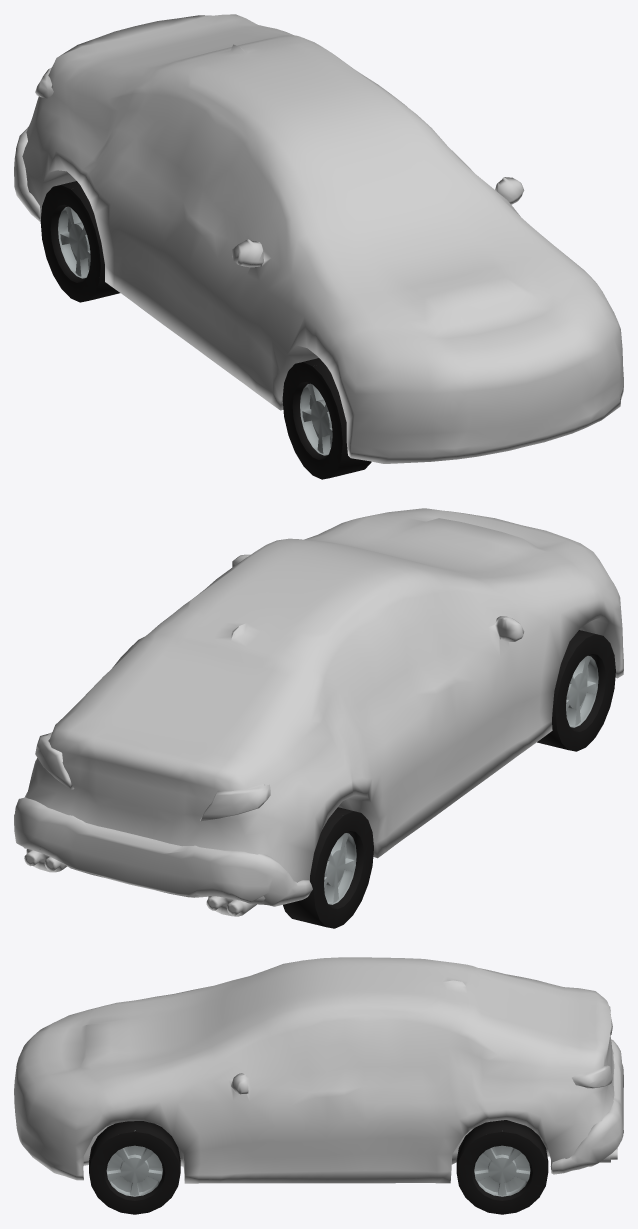
File: CarNoOutline.fbx
3 renders of one model, top to bottom at view 1: azimuth 30°, elevation 25°; view 2: azimuth 150°, elevation 25°; view 3: azimuth 270°, elevation 25°, orthographic. The views are drawn at different scales.
Parts seen in each view (by area): view 1: CarBody, Wheels; view 2: CarBody, Wheels; view 3: CarBody, Wheels.
Part boxes in pixels (x1=…): CarBody: x1=14, y1=14, x2=623, y2=463; Wheels: x1=40, y1=181, x2=371, y2=479; CarBody: x1=14, y1=508, x2=623, y2=916; Wheels: x1=283, y1=630, x2=615, y2=928; CarBody: x1=14, y1=957, x2=623, y2=1183; Wheels: x1=89, y1=1120, x2=548, y2=1214.
Size of the model in its own units: 192 by 156 by 461.
